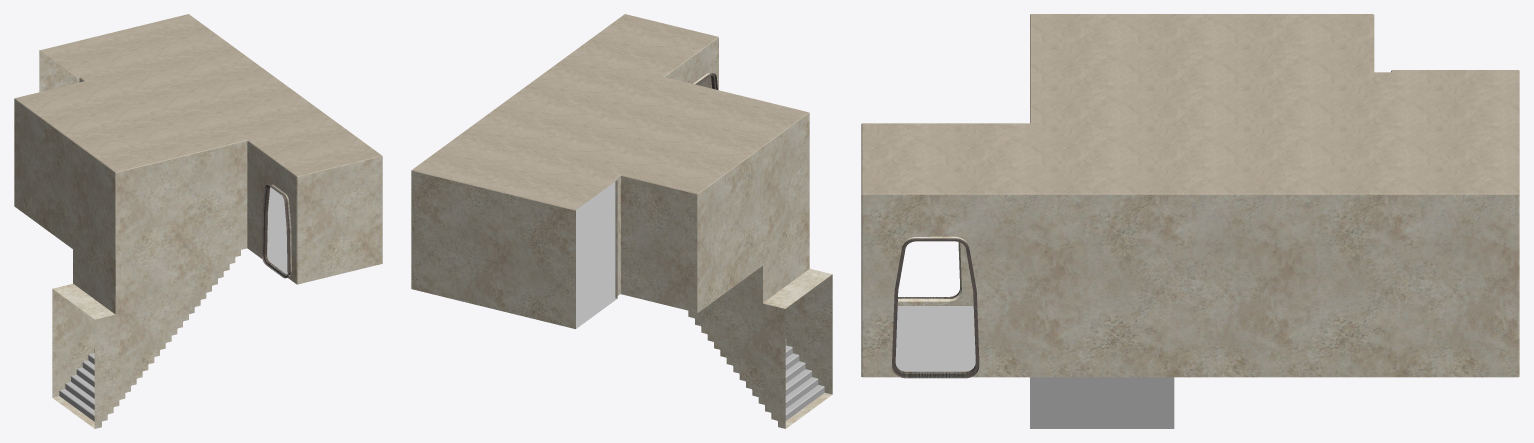
File: thm_tato_house_m_s01_fp1_r6_hall1_mesh_r6.fbx
The picture shows the model from 3 angles, left to right: view 1: azimuth 30°, elevation 25°; view 2: azimuth 150°, elevation 25°; view 3: azimuth 270°, elevation 25°; orthographic projection. The views are drawn at different scales.
Parts seen in each view (by area): view 1: mesh_node; view 2: mesh_node; view 3: mesh_node.
Boxes of the visible parts, left/top/right/bottom form: mesh_node: left=14, top=14, right=382, bottom=428; mesh_node: left=411, top=14, right=832, bottom=428; mesh_node: left=861, top=14, right=1519, bottom=428.
Size of the model in its own units: 9.91 by 9.78 by 13.67.
